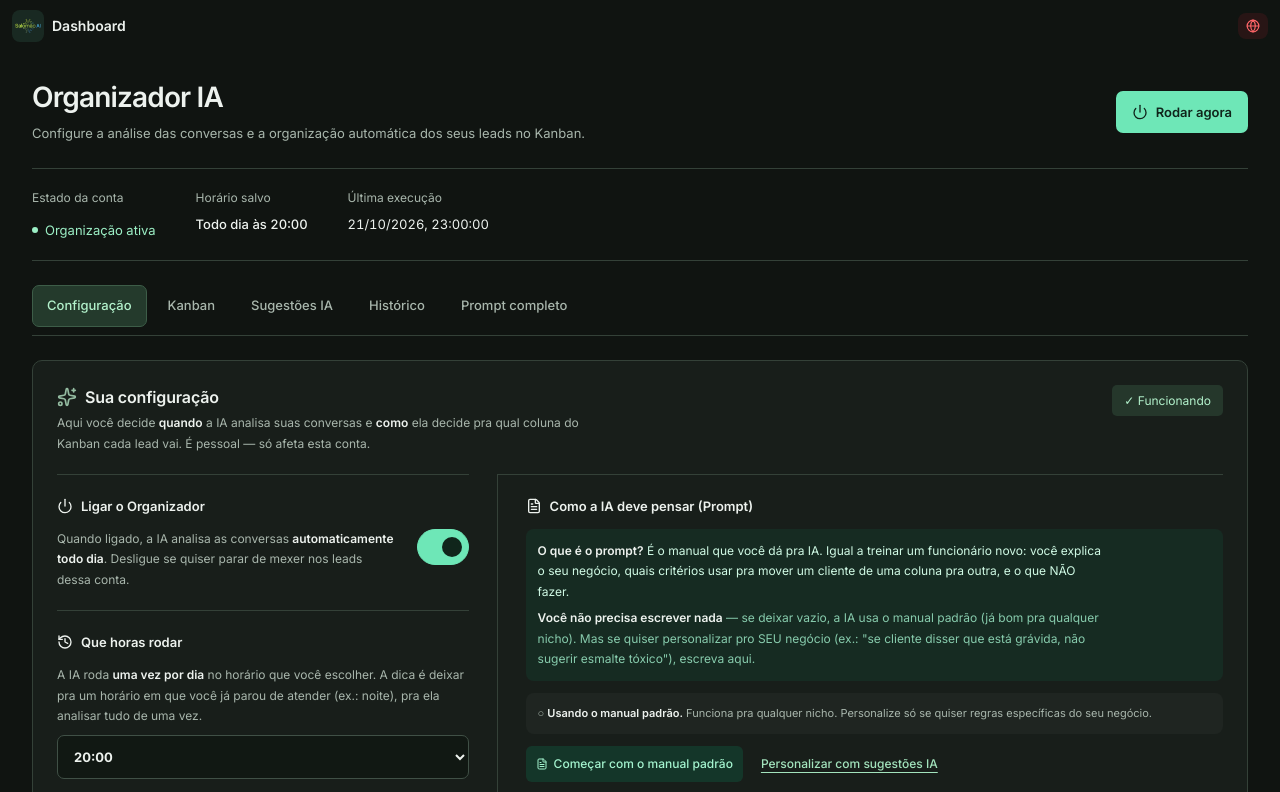
Test: Organizador IA: contratos da interface › mantém controles globais exclusivos do admin e o modelo de sugestão bloqueado para clientes
Expected: the button "Rodar agora" is enabled, [1116,91,1248,133]
What coordinates should you click on to do the following:
click the button "Sugestões IA"
I would click on:
 (292, 306)
Its box is [236,285,348,327].
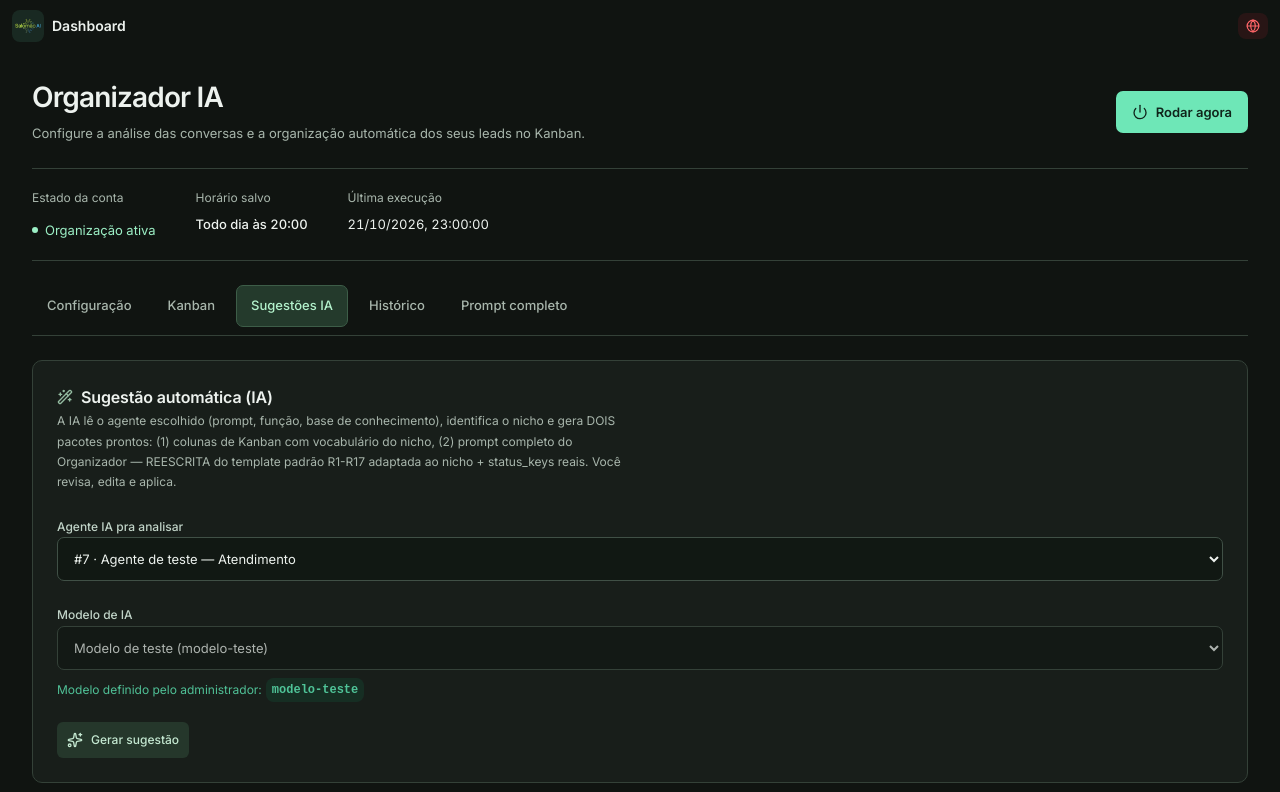
Expected: the dropdown named "Modelo para a sugestão de Kanban" is disabled, [57,626,1223,670]
